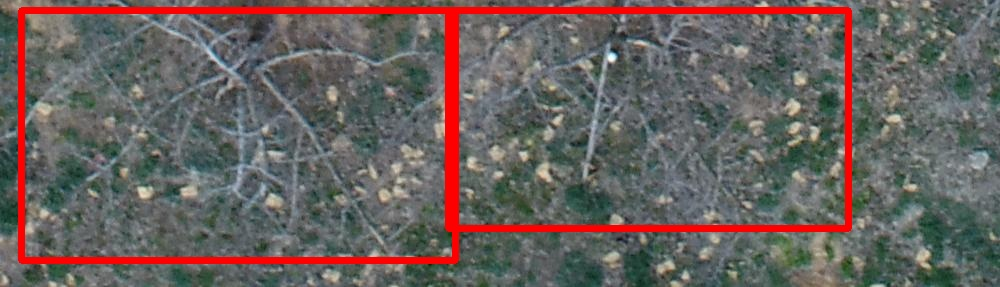apple: (21, 10, 455, 260), (448, 10, 848, 228)
